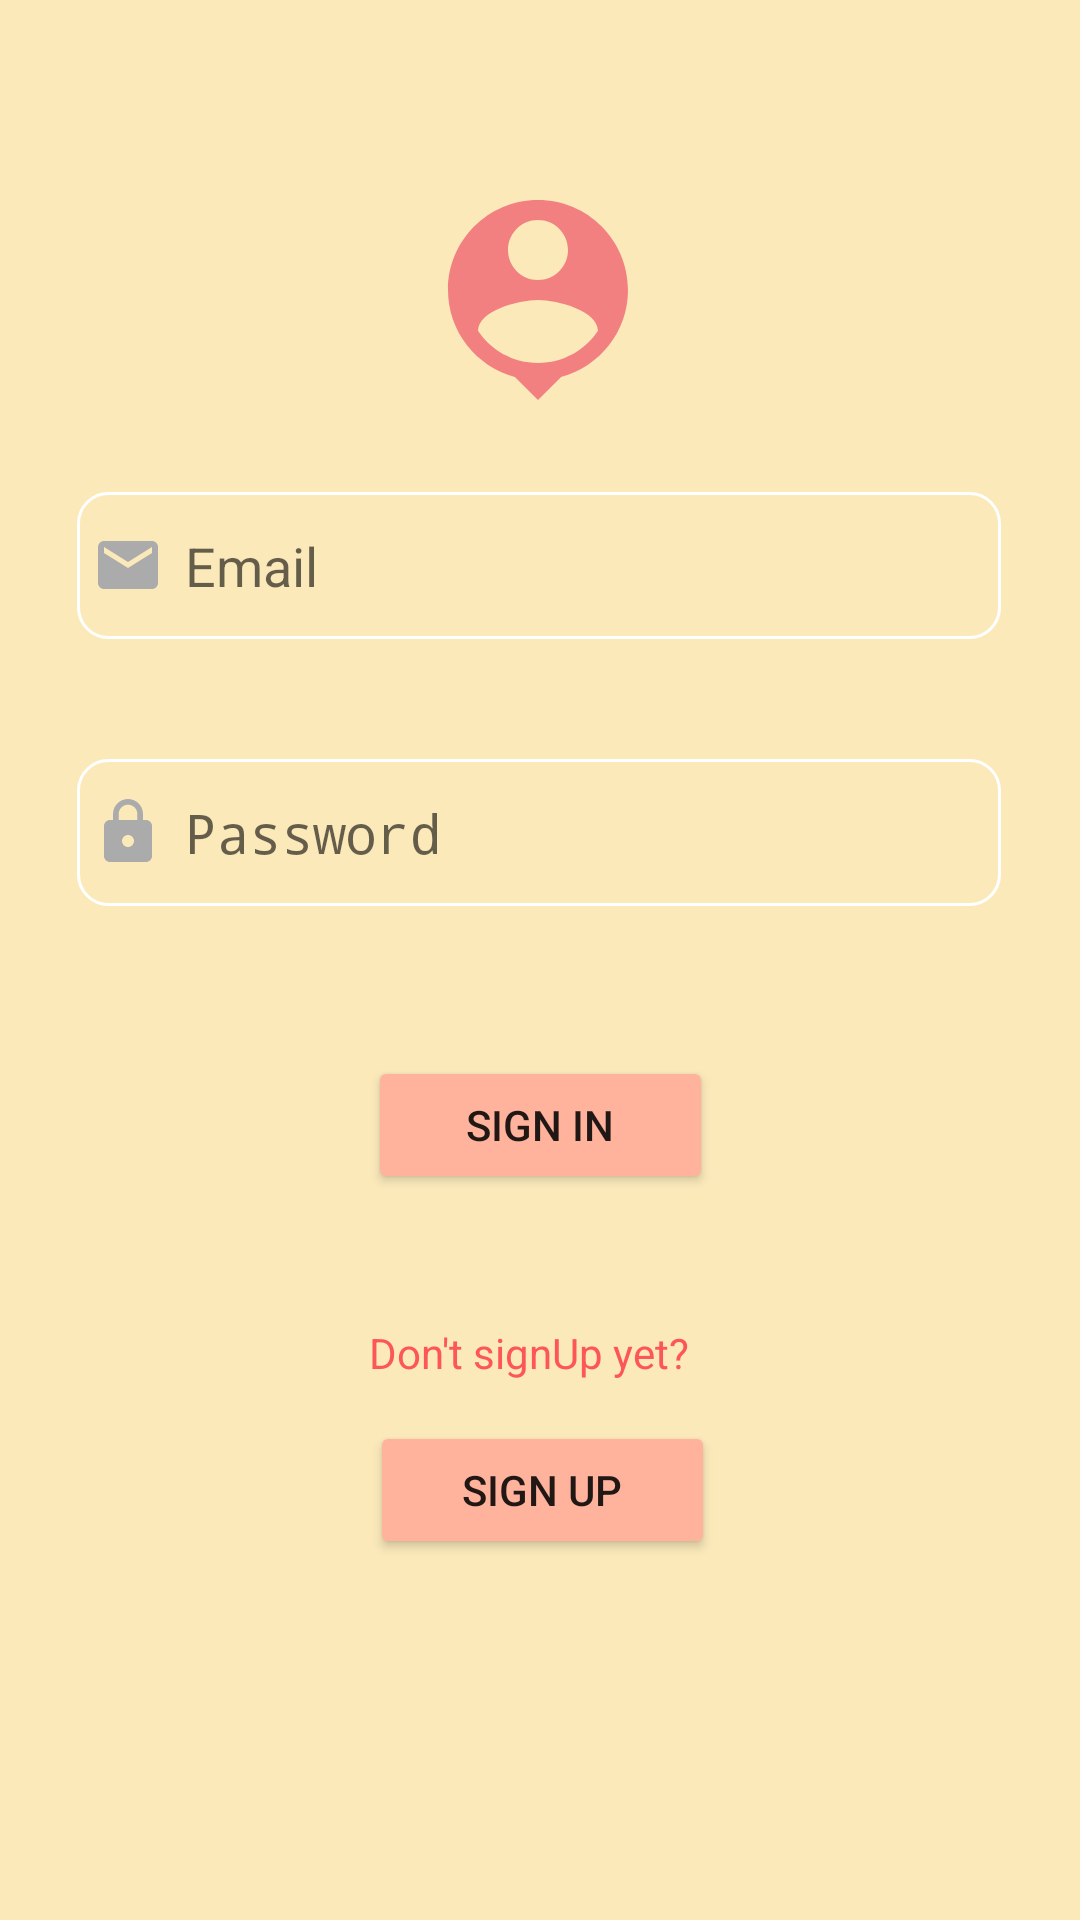

Icon click points for this 1080*1920 phone screenshot, format [x,y]:
person pin: [538,300]
